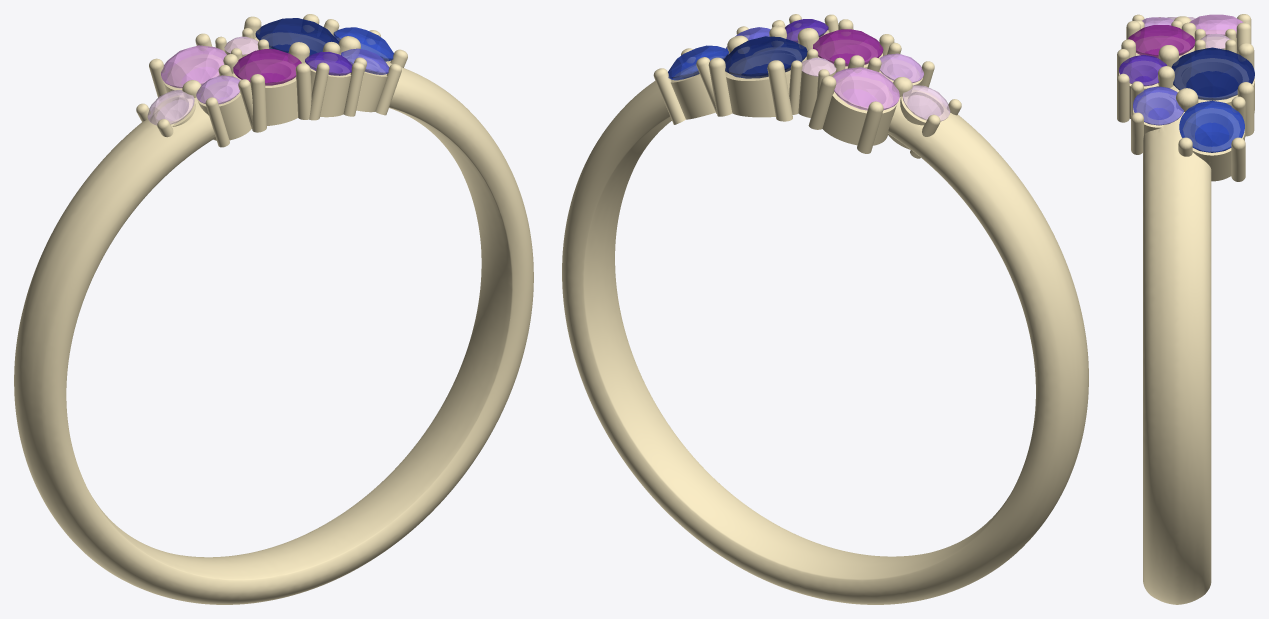
The model's file is pink-ring.glb.
3 views of the same model, side by side, from view 1: azimuth 30°, elevation 25°; view 2: azimuth 150°, elevation 25°; view 3: azimuth 270°, elevation 25° (orthographic). The views are drawn at different scales.
Visible parts, largest first — view 1: Object_1_WhiteMetal_0, Diamond_Round_4, Diamond_Round_3, Diamond_Round_6, Diamond_Round, Diamond_Round_2, Diamond_Round_7, Diamond_Round_9, Diamond_Round_8; view 2: Object_1_WhiteMetal_0, Diamond_Round_3, Diamond_Round_4, Diamond_Round_6, Diamond_Round, Diamond_Round_7, Diamond_Round_2; view 3: Object_1_WhiteMetal_0, Diamond_Round_3, Diamond_Round_7, Diamond_Round_8, Diamond_Round_6, Diamond_Round_9, Diamond_Round_4, Diamond_Round_5, Diamond_Round_2.
Boxes of the visible parts, x1,y1,x2,y2 form: Object_1_WhiteMetal_0: [14, 14, 533, 604]; Diamond_Round_4: [161, 45, 226, 88]; Diamond_Round_3: [255, 18, 338, 55]; Diamond_Round_6: [233, 49, 301, 85]; Diamond_Round: [147, 90, 194, 125]; Diamond_Round_2: [196, 75, 240, 104]; Diamond_Round_7: [333, 27, 393, 61]; Diamond_Round_9: [305, 52, 352, 75]; Diamond_Round_8: [340, 48, 389, 74]; Object_1_WhiteMetal_0: [562, 14, 1088, 604]; Diamond_Round_3: [724, 36, 807, 78]; Diamond_Round_4: [833, 67, 899, 110]; Diamond_Round_6: [813, 29, 883, 66]; Diamond_Round: [902, 85, 950, 121]; Diamond_Round_7: [668, 45, 728, 80]; Diamond_Round_2: [879, 53, 923, 83]; Object_1_WhiteMetal_0: [1117, 14, 1254, 604]; Diamond_Round_3: [1171, 47, 1254, 100]; Diamond_Round_7: [1179, 101, 1244, 152]; Diamond_Round_8: [1133, 86, 1183, 125]; Diamond_Round_6: [1128, 25, 1195, 58]; Diamond_Round_9: [1119, 54, 1166, 86]; Diamond_Round_4: [1189, 14, 1243, 37]; Diamond_Round_5: [1200, 34, 1230, 48]; Diamond_Round_2: [1142, 17, 1173, 27].
Size of the model in its own units: 0.0212 by 0.0218 by 0.00504.
